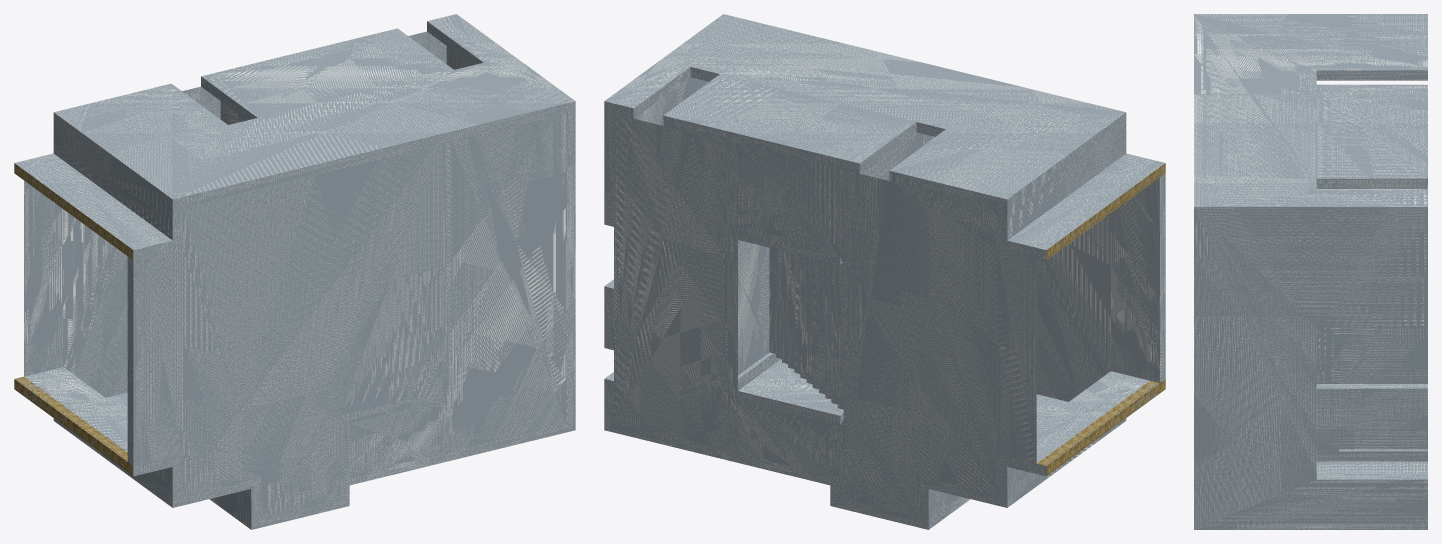
The model's file is maison.obj.
The picture shows the model from 3 angles, left to right: view 1: azimuth 30°, elevation 25°; view 2: azimuth 150°, elevation 25°; view 3: azimuth 270°, elevation 25°; orthographic projection.
Parts seen in each view (by area): view 1: Mesh1 Model; view 2: Mesh1 Model; view 3: Mesh1 Model.
Part boxes in pixels (<box>): Mesh1 Model: <box>14,14,575,529</box>; Mesh1 Model: <box>604,14,1165,529</box>; Mesh1 Model: <box>1194,14,1427,529</box>.
Size of the model in its own units: 11.25 by 8.5 by 5.25.
